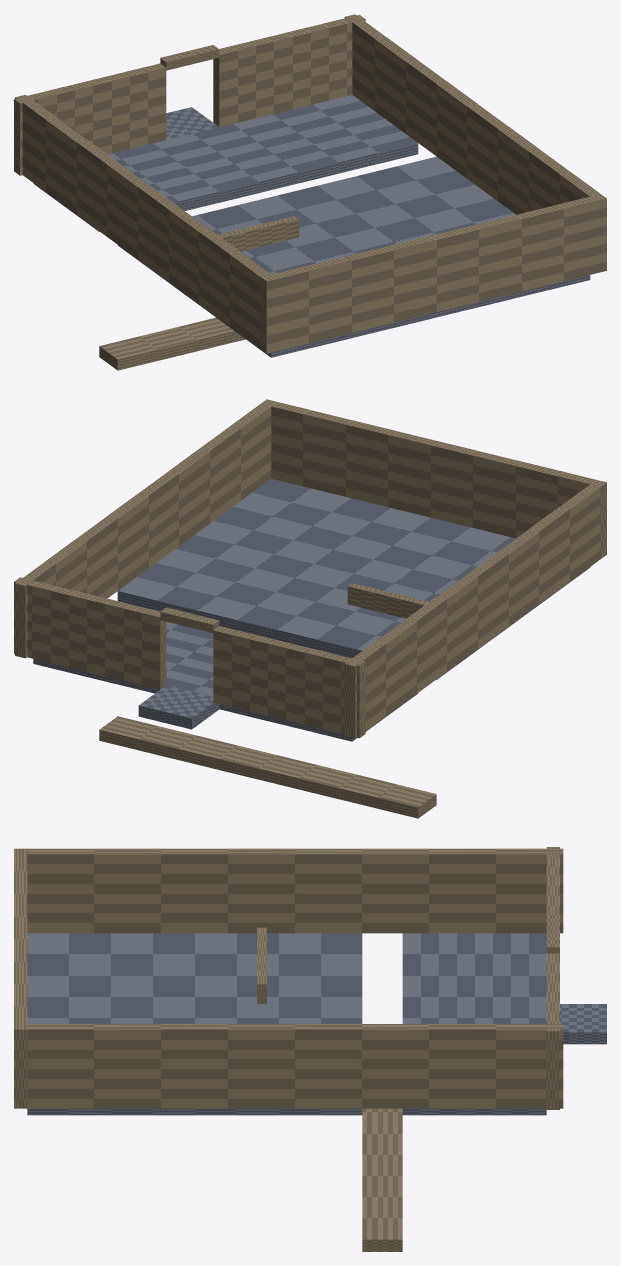
File: court.gltf
The picture shows the model from 3 angles, top to bottom: view 1: azimuth 30°, elevation 25°; view 2: azimuth 150°, elevation 25°; view 3: azimuth 270°, elevation 25°; orthographic projection. The views are drawn at different scales.
Visible parts, largest first — view 1: South, West, CourtFloor, Ledge, East, NorthRight, NorthLeft, PitFloor, LowWall, ExitFloor, GateLintel; view 2: CourtFloor, South, West, East, NorthLeft, NorthRight, PitFloor, Ledge, ExitFloor, LowWall, GateLintel; view 3: West, East, CourtFloor, Ledge, PitFloor, South, NorthRight, ExitFloor, NorthLeft, LowWall.
Part boxes in pixels (<box>): South: <box>260,194,606,353</box>; West: <box>15,94,270,348</box>; CourtFloor: <box>117,156,590,357</box>; Ledge: <box>33,95,418,231</box>; East: <box>344,14,600,214</box>; NorthRight: <box>213,15,365,126</box>; NorthLeft: <box>14,63,166,175</box>; PitFloor: <box>99,317,245,370</box>; LowWall: <box>217,216,298,251</box>; ExitFloor: <box>166,107,218,139</box>; GateLintel: <box>160,45,219,70</box>; CourtFloor: <box>117,478,590,679</box>; South: <box>261,399,606,558</box>; West: <box>344,484,600,738</box>; East: <box>15,404,271,658</box>; NorthLeft: <box>213,626,365,738</box>; NorthRight: <box>14,577,166,689</box>; PitFloor: <box>99,716,436,818</box>; Ledge: <box>33,622,418,741</box>; ExitFloor: <box>138,685,219,729</box>; LowWall: <box>347,583,428,618</box>; GateLintel: <box>160,607,219,632</box>; West: <box>27,848,563,933</box>; East: <box>27,1024,563,1108</box>; CourtFloor: <box>27,933,362,1115</box>; Ledge: <box>402,933,546,1115</box>; PitFloor: <box>362,1108,402,1251</box>; South: <box>14,848,27,1108</box>; NorthRight: <box>546,953,559,1109</box>; ExitFloor: <box>560,1004,606,1044</box>; NorthLeft: <box>546,847,559,918</box>; LowWall: <box>257,927,266,1003</box>.
Size of the model in its own units: 13 by 7.7 by 17.7.
Materials: 2 (2 with a texture image).
